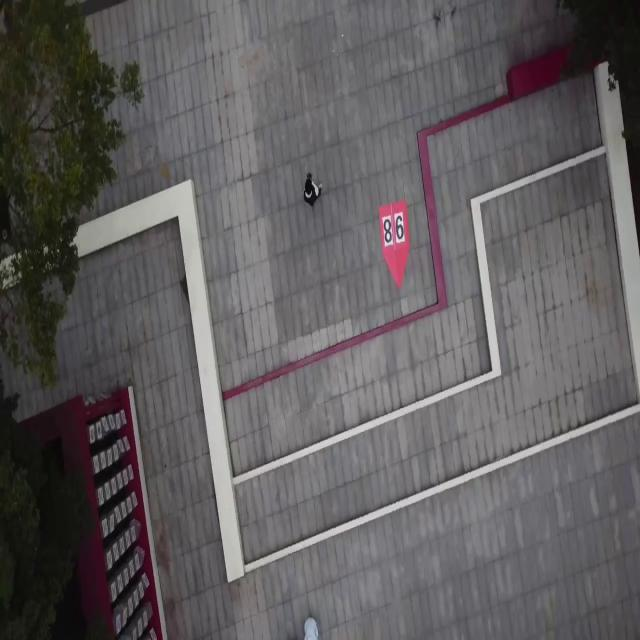-sign-: (378, 198, 410, 290)
